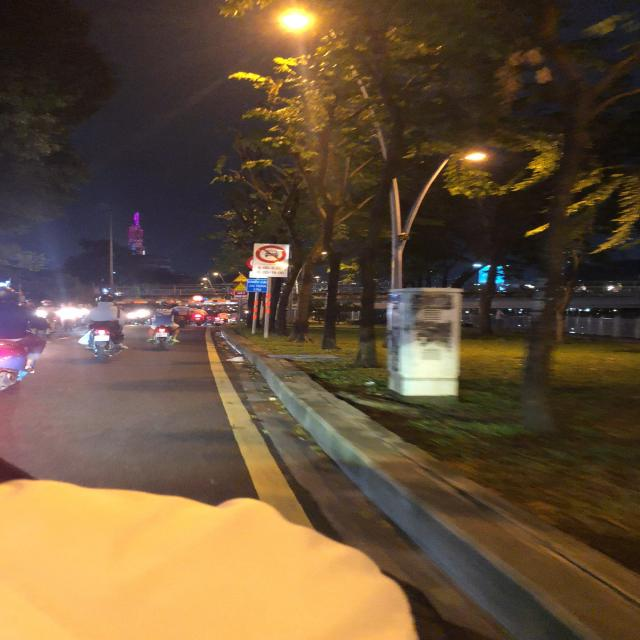Bien bao cam xe oto: (253, 242, 289, 264)
